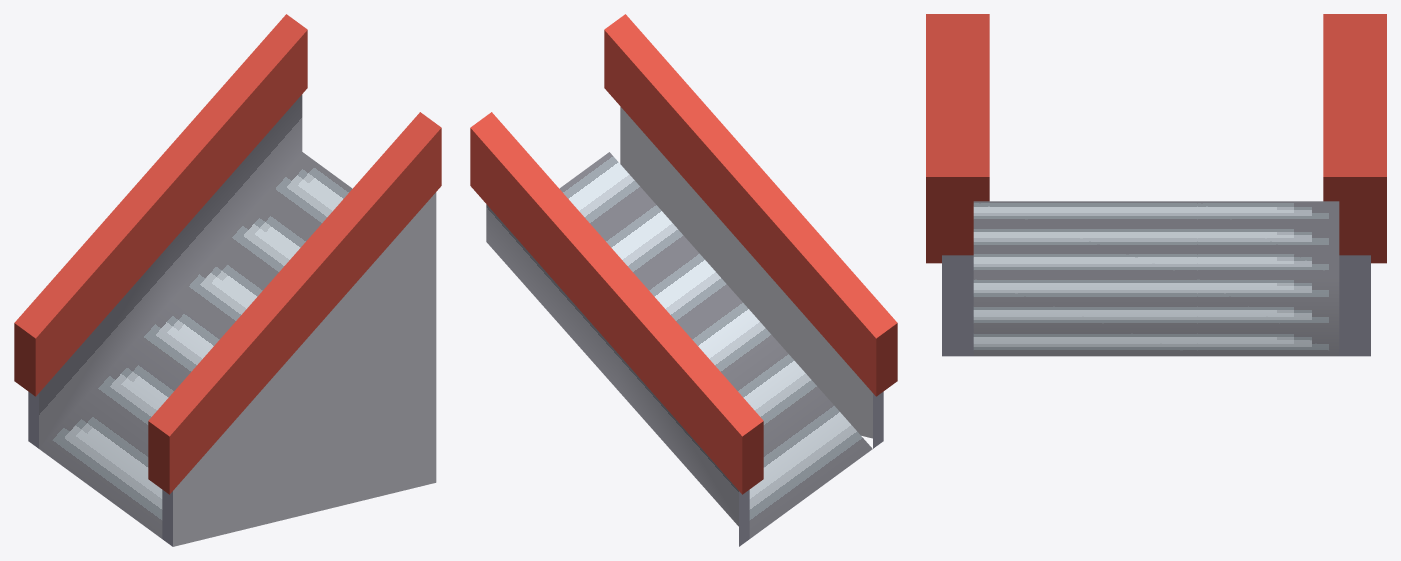
3 views of the same model, side by side, from view 1: azimuth 30°, elevation 25°; view 2: azimuth 150°, elevation 25°; view 3: azimuth 270°, elevation 25° (orthographic). The views are drawn at different scales.
Bounding box in the file's own units: 1.83 × 2.31 × 1.81.
1 material, 1 textured.
